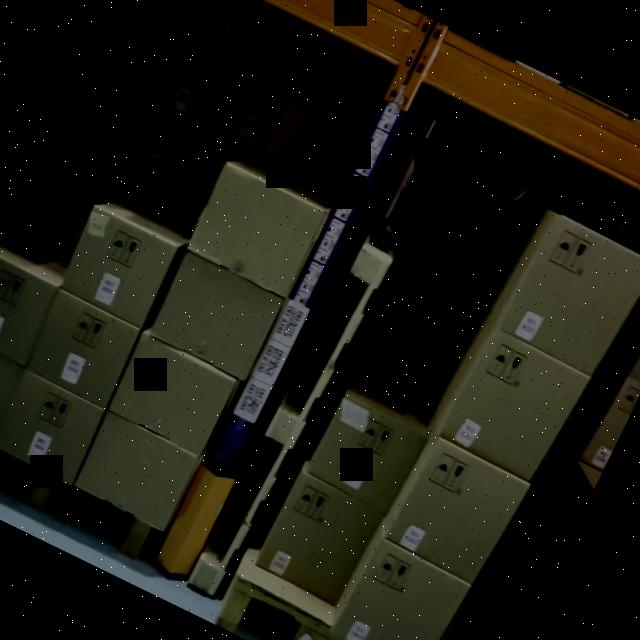box: (439, 328, 585, 480), (503, 214, 640, 373), (388, 440, 524, 580), (185, 165, 324, 297), (150, 254, 282, 380), (256, 474, 383, 604), (106, 334, 237, 456), (352, 254, 472, 382), (398, 164, 516, 286), (21, 290, 140, 407), (306, 396, 424, 513), (74, 417, 196, 529), (61, 211, 176, 326), (334, 543, 463, 640), (260, 94, 368, 202), (0, 377, 102, 482), (142, 36, 236, 132), (210, 68, 292, 156), (120, 108, 202, 188), (0, 254, 59, 364), (0, 335, 28, 444)
